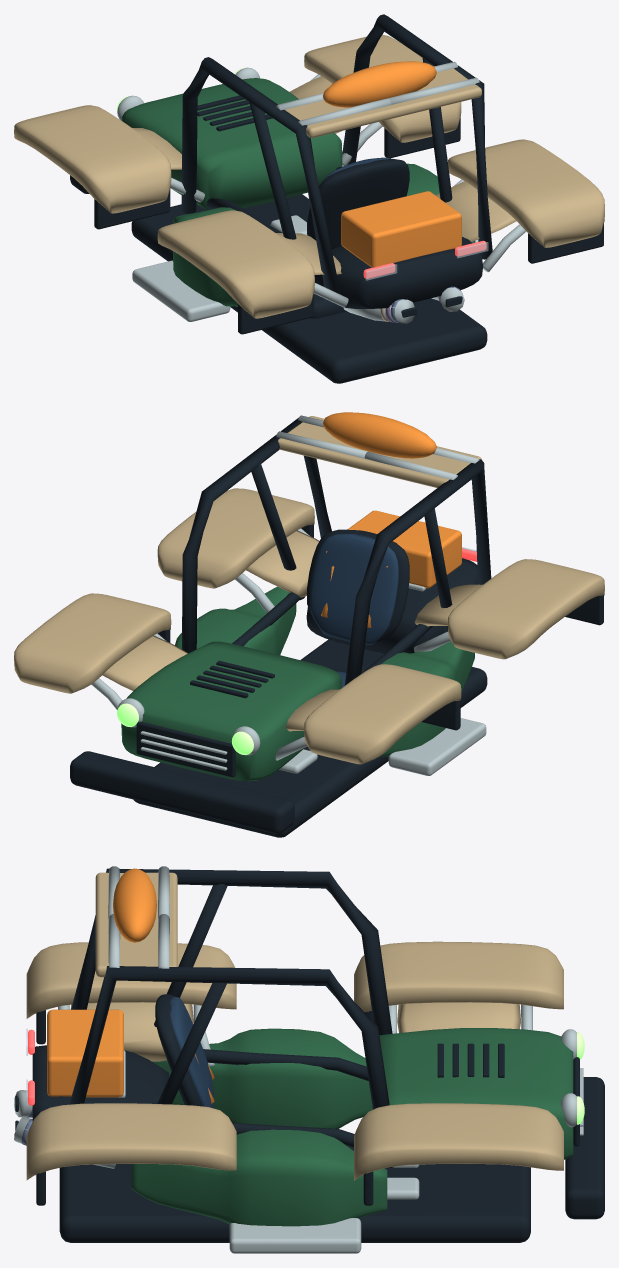
Rendered from terra.glb.
3 renders of one model, top to bottom at view 1: azimuth 30°, elevation 25°; view 2: azimuth 150°, elevation 25°; view 3: azimuth 270°, elevation 25°, orthographic. The views are drawn at different scales.
Visible parts, largest first — view 1: LOD0, ShowroomDetail; view 2: LOD0; view 3: LOD0.
Boxes of the visible parts, bbox=[...] form: LOD0: bbox=[14, 14, 604, 383]; ShowroomDetail: bbox=[365, 242, 488, 323]; LOD0: bbox=[14, 412, 604, 837]; LOD0: bbox=[14, 866, 604, 1253].
Size of what is drawn, in the model's own units: 1.98 by 1.41 by 2.38.
